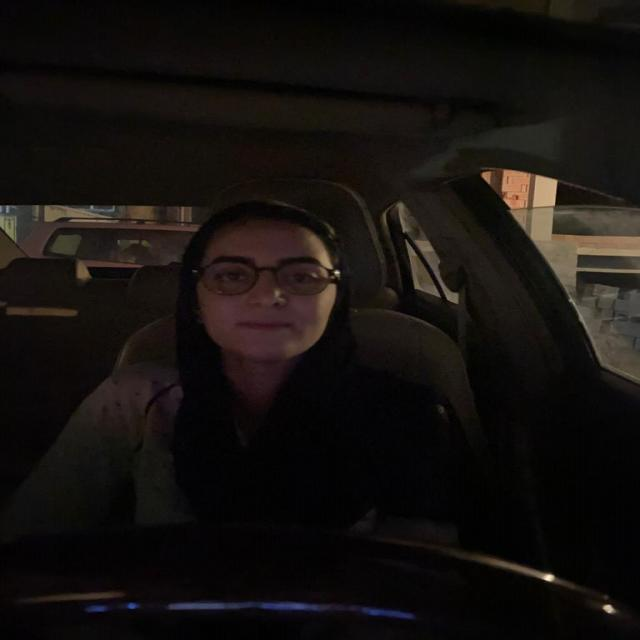person: (200, 213, 338, 370)
